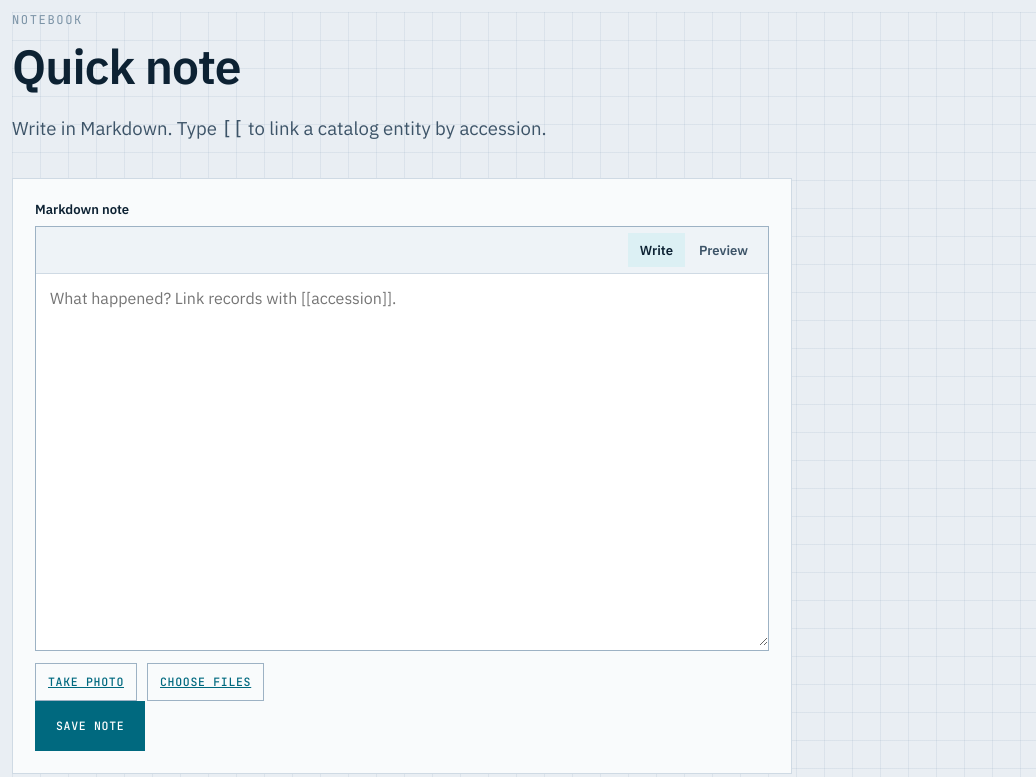
Test: QuickNotePage entity references › names an unknown [ [accession]] in an error and creates nothing
This screenshot has width=1036, height=777.
Replace the text in the text box labelled "Markdown note" with "Broke [ [W-2099-9999]] somehow" at (402, 460), box x1=36 y1=274 x2=768 y2=646
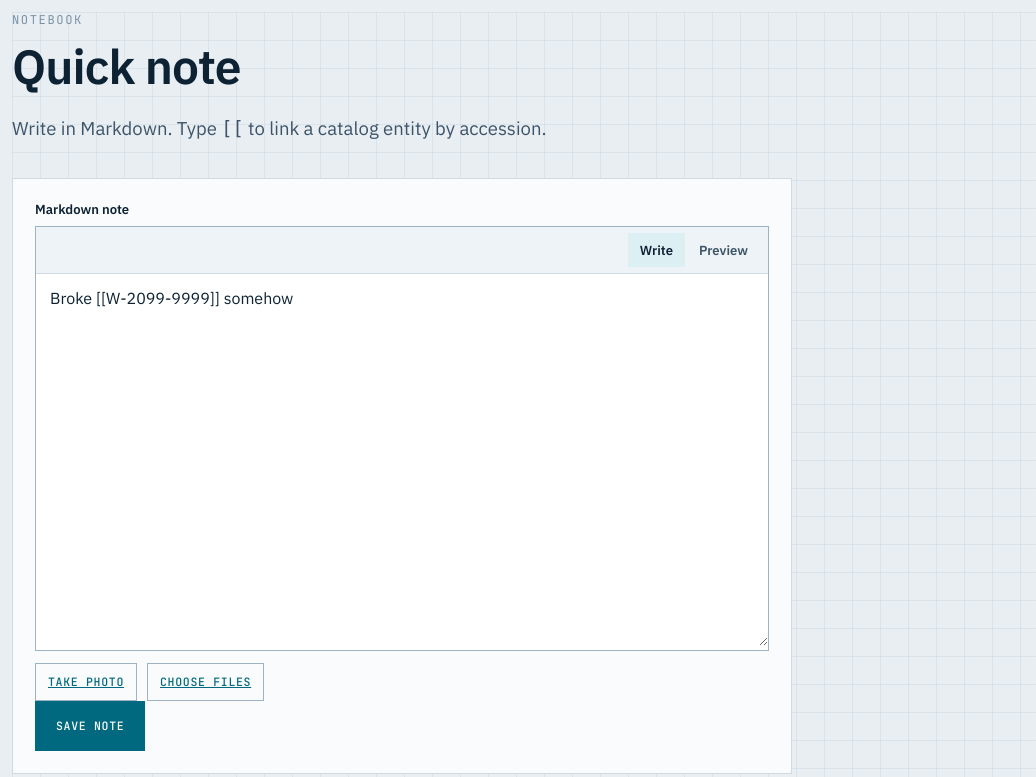
Click the button "Save note".
click(90, 726)  # box x1=35 y1=701 x2=145 y2=751
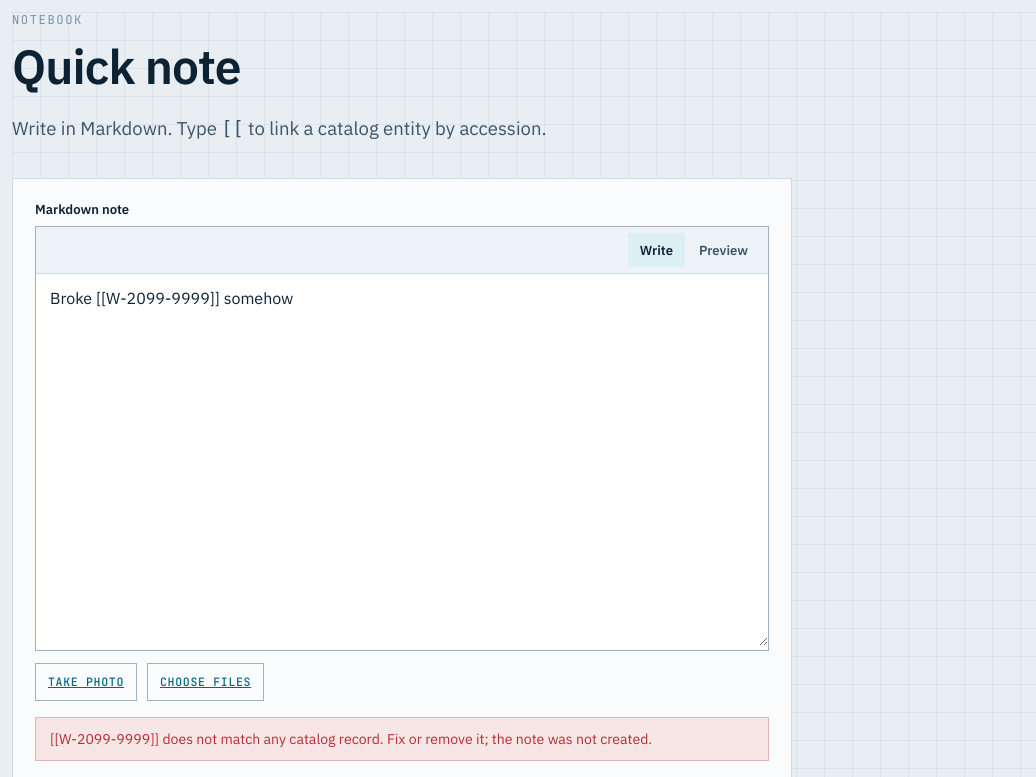
Result: the text "does not match any catalog record" shows "[ [W-2099-9999]]" at x1=50 y1=730 x2=652 y2=748
